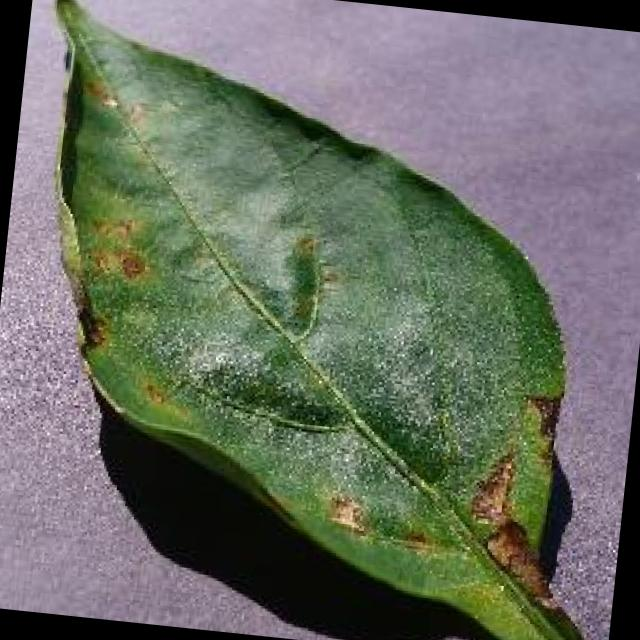Chilli_Bacterial_Spot: (0, 0, 640, 640), (313, 372, 581, 608), (454, 446, 572, 612), (316, 486, 444, 558), (474, 511, 566, 608), (270, 228, 332, 343), (76, 208, 158, 290), (462, 446, 520, 532), (320, 489, 372, 539), (84, 208, 142, 248), (73, 310, 112, 356), (110, 246, 151, 286), (394, 522, 436, 558), (286, 229, 322, 265)
